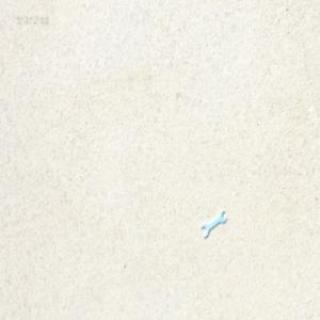Wrenchtrack_idkeyframe: (200, 204, 226, 232)
